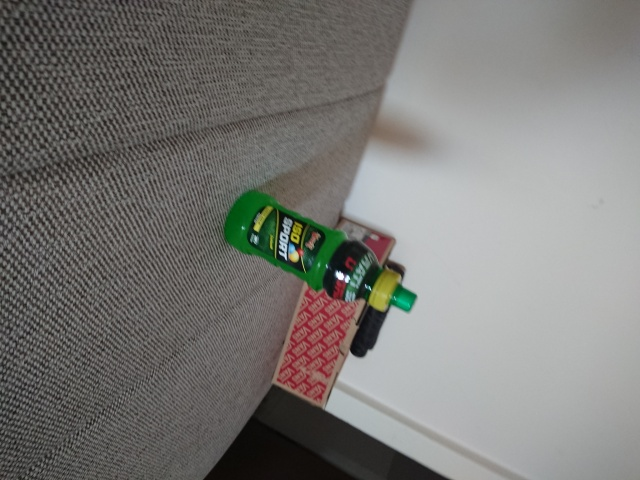Vindi Iso Sport Lemon-Grapefruit 500mL: (221, 188, 420, 316)
